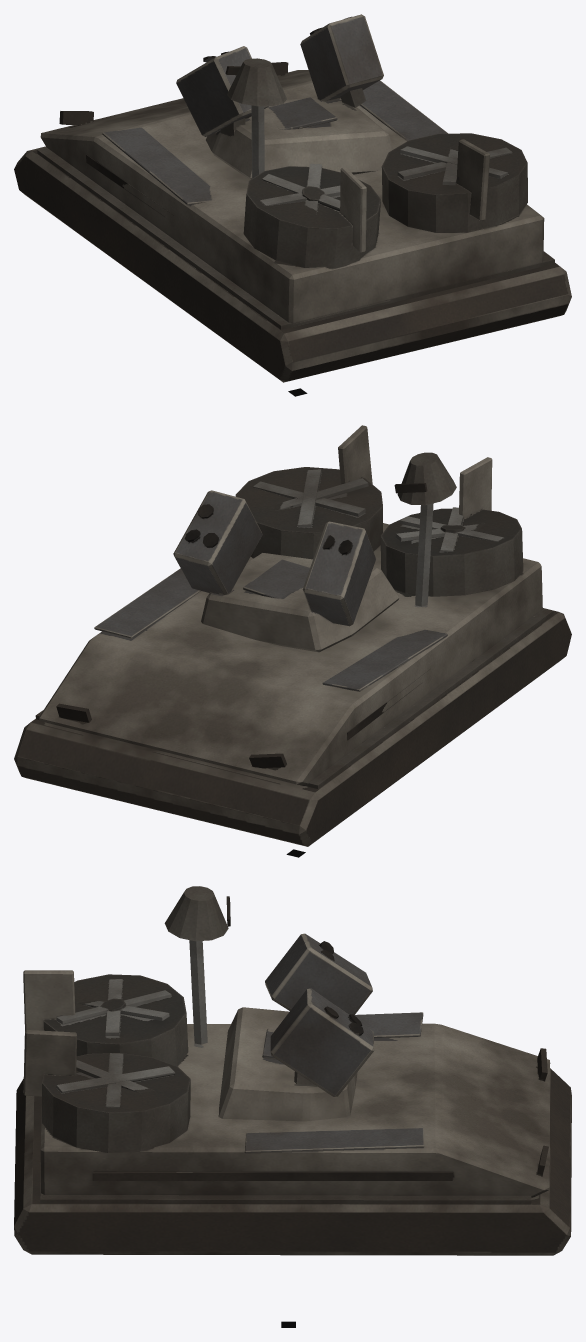
File: ord_halcyon_wreck.fbx
The picture shows the model from 3 angles, top to bottom: view 1: azimuth 30°, elevation 25°; view 2: azimuth 150°, elevation 25°; view 3: azimuth 270°, elevation 25°; orthographic projection.
Visible parts, largest first — view 1: base_bar, turret_bar, fan1_bar, fan2_bar; view 2: base_bar, turret_bar, fan2_bar, fan1_bar; view 3: base_bar, turret_bar, fan2_bar, fan1_bar.
Boxes of the visible parts, x1,y1,x2,y2 form: base_bar: [14, 58, 571, 382]; turret_bar: [176, 14, 393, 179]; fan1_bar: [260, 163, 340, 214]; fan2_bar: [397, 146, 512, 185]; base_bar: [14, 425, 571, 846]; turret_bar: [173, 490, 399, 652]; fan2_bar: [253, 469, 368, 527]; fan1_bar: [396, 507, 504, 552]; base_bar: [14, 886, 571, 1255]; turret_bar: [218, 933, 374, 1121]; fan2_bar: [56, 1053, 175, 1107]; fan1_bar: [56, 979, 171, 1035].
Size of the model in its own units: 468 by 584 by 755.
Materials: 2 (2 with a texture image).
